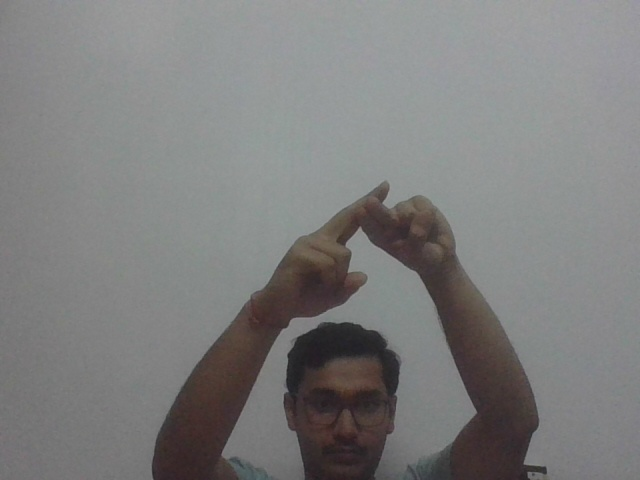F: (280, 180, 466, 306)
